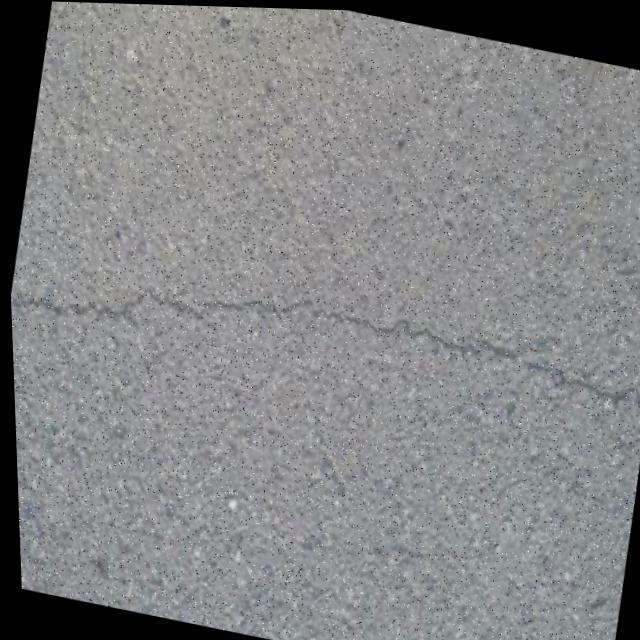Crack: (7, 237, 640, 459)
